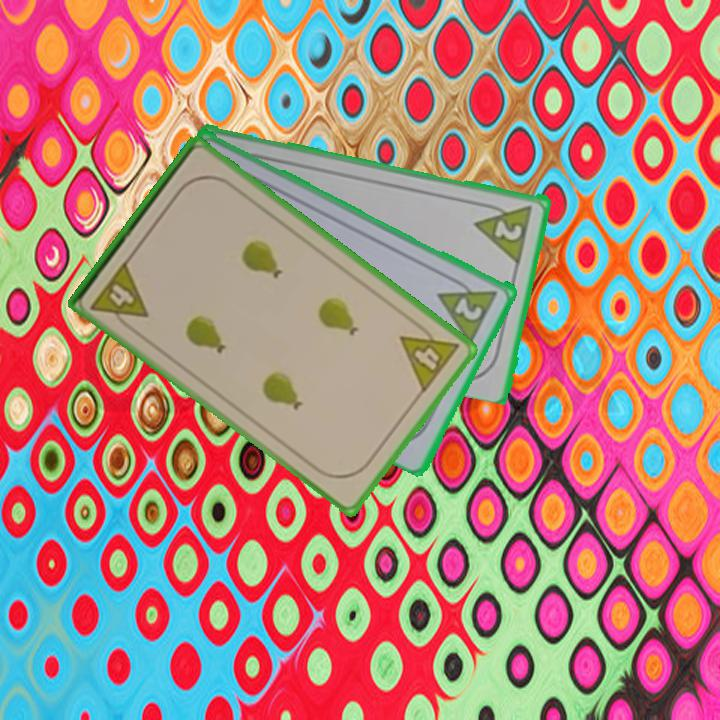2p: (433, 271, 502, 346), (471, 198, 536, 264)
4p: (396, 316, 462, 396), (86, 257, 152, 335)
